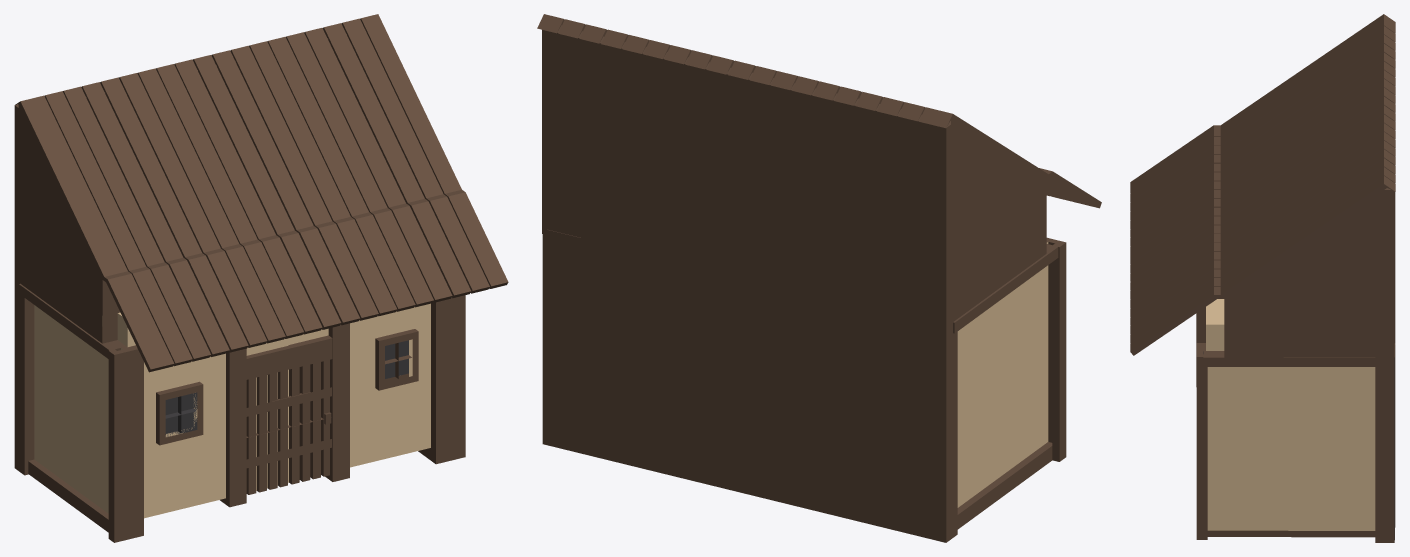
Rendered from medieval5.fbx.
3 views of the same model, side by side, from view 1: azimuth 30°, elevation 25°; view 2: azimuth 150°, elevation 25°; view 3: azimuth 270°, elevation 25° (orthographic). The views are drawn at different scales.
Visible parts, largest first — view 1: Cube.014; view 2: Cube.014; view 3: Cube.014.
Part boxes in pixels (box(x1,y1,x2,y2)): Cube.014: box(14, 14, 508, 542); Cube.014: box(537, 14, 1101, 542); Cube.014: box(1130, 14, 1395, 542).
Size of the model in its own units: 175 by 173 by 115.
